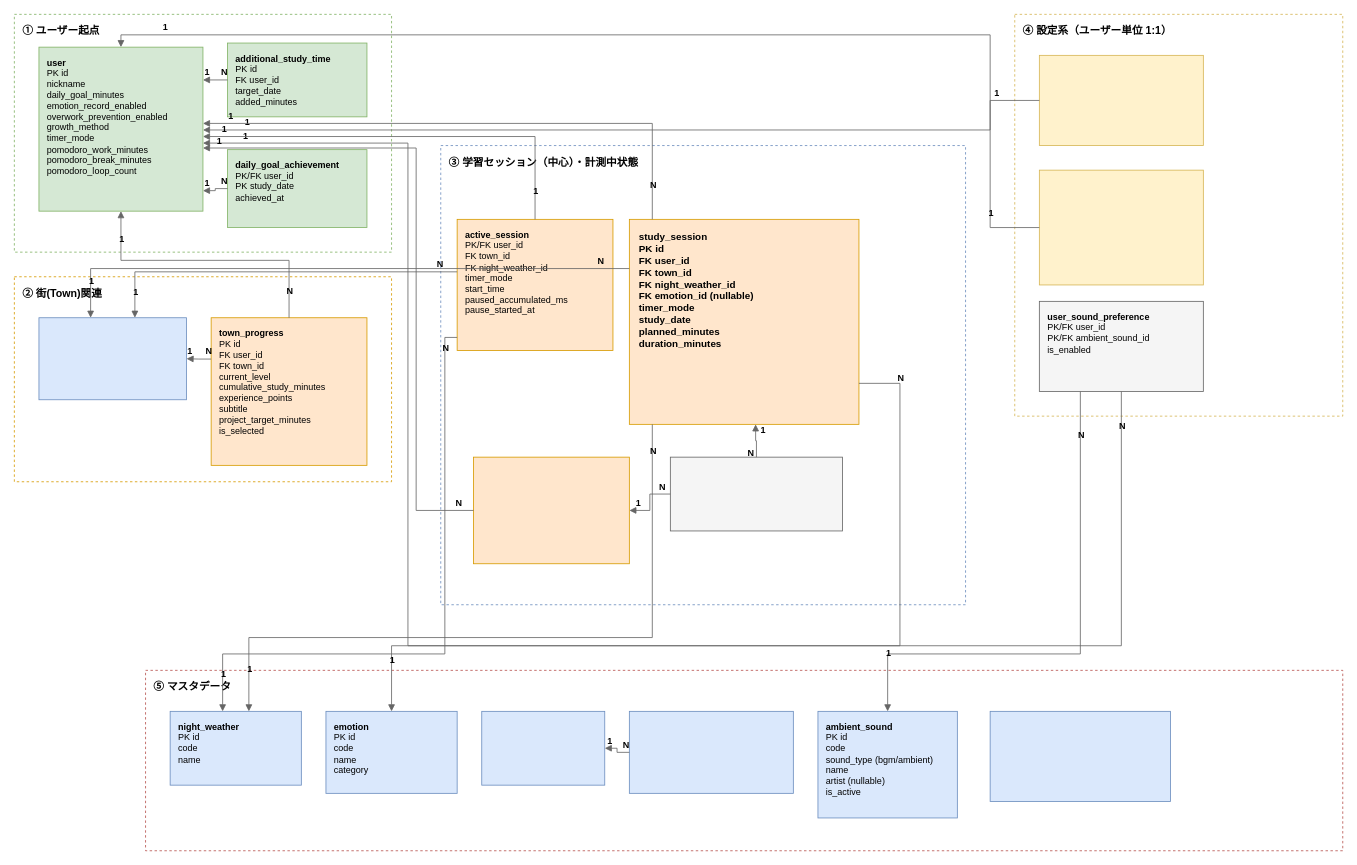
This 1357x865 diagram has some shape labels left out. The shapes that lost their labels are listed below. From the top down, each one's centre as x and y in pixels, then its label:
the point at 1121,100: notification_setting PK/FK user_id is_enabled scheduled_time
the point at 1121,227: audio_setting PK/FK user_id bgm_volume ambient_volume sfx_volume bell_volume
the point at 112,358: town PK id code name is_active
the point at 551,510: study_tag PK id FK user_id (nullable) name is_custom is_active
the point at 756,493: session_tag PK/FK study_session_id PK/FK study_tag_id
the point at 543,748: npc PK id name is_active
the point at 711,752: npc_message PK id FK npc_id trigger_type message
the point at 1080,756: growth_level_threshold PK id method (habit/project) level required_value
